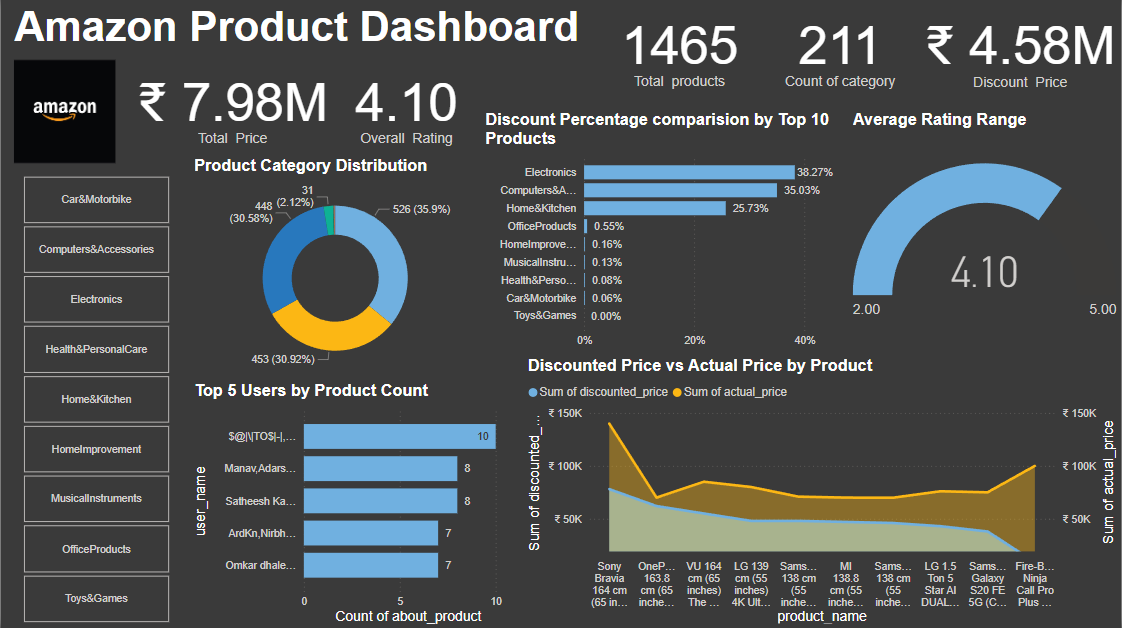

This screenshot's page, from the dashboard's own definition file:
{"tool":"powerbi","page":{"name":"Page 1","canvas":[1280,720],"ordinal":0},"visuals":[{"type":"textbox","box":[9.6,0,657.3,89.2],"z":0},{"type":"card","fields":{"Values":["amazon.Total products"]},"box":[682.9,0,185.7,115.7],"z":1000},{"type":"card","fields":{"Values":["amazon.category"]},"box":[868.6,0,181.4,115.7],"z":2000},{"type":"card","fields":{"Values":["amazon.Total Price"]},"box":[135.7,65.7,258.6,115.7],"z":3000},{"type":"card","fields":{"Values":["amazon.Overall Rating"]},"box":[378.6,65.7,170,115.7],"z":4000},{"type":"card","fields":{"Values":["amazon.Discount  Price"]},"box":[1050,1.4,230,114.3],"z":5000},{"type":"clusteredBarChart","title":"Discount Percentage comparision by Top 10 Products","fields":{"Category":["amazon.sub_category"],"Y":["amazon.discount_percentage"]},"box":[548.6,128.6,420,278.6],"z":6000},{"type":"donutChart","title":"Product Category Distribution","fields":{"Category":["amazon.sub_category"],"Y":["amazon.category"]},"box":[215.7,181.4,332.9,257.1],"z":7000},{"type":"barChart","title":"Top 5 Users by Product Count","fields":{"Category":["amazon.user_name"],"Y":["amazon.about_product"]},"box":[215.7,438.6,381.4,281.4],"z":8000},{"type":"areaChart","title":"Discounted Price vs Actual Price by Product","fields":{"Category":["amazon.product_name"],"Y2":["amazon.actual_price"],"Y":["amazon.discounted_price"]},"box":[597.1,410,682.9,310],"z":9000},{"type":"gauge","title":"Average Rating Range","fields":{"Y":["amazon.rating"],"MinValue":["amazon.rating"],"MaxValue":["Sum(amazon.rating)1"]},"box":[968.6,128.6,311.4,278.6],"z":10000},{"type":"slicer","fields":{"Values":["amazon.Sub_category"]},"box":[0,197.1,215.7,522.9],"z":11000},{"type":"image","box":[10,65.7,125.7,128.6],"z":12000}]}

Visuals, with their boxes in screenshot pixels (x1, y1, x2, y2), scaled from the page's 1280x720 canvas onto the 1122x628 screenshot:
textbox: box(8, 0, 585, 78)
card - amazon.Total products: box(599, 0, 761, 101)
card - amazon.category: box(761, 0, 920, 101)
card - amazon.Total Price: box(119, 57, 346, 158)
card - amazon.Overall Rating: box(332, 57, 481, 158)
card - amazon.Discount  Price: box(920, 1, 1121, 101)
"Discount Percentage comparision by Top 10 Products" clusteredBarChart: box(481, 112, 849, 355)
"Product Category Distribution" donutChart: box(189, 158, 481, 382)
"Top 5 Users by Product Count" barChart: box(189, 383, 523, 627)
"Discounted Price vs Actual Price by Product" areaChart: box(523, 358, 1121, 627)
"Average Rating Range" gauge: box(849, 112, 1121, 355)
slicer - amazon.Sub_category: box(0, 172, 189, 627)
image: box(9, 57, 119, 169)
